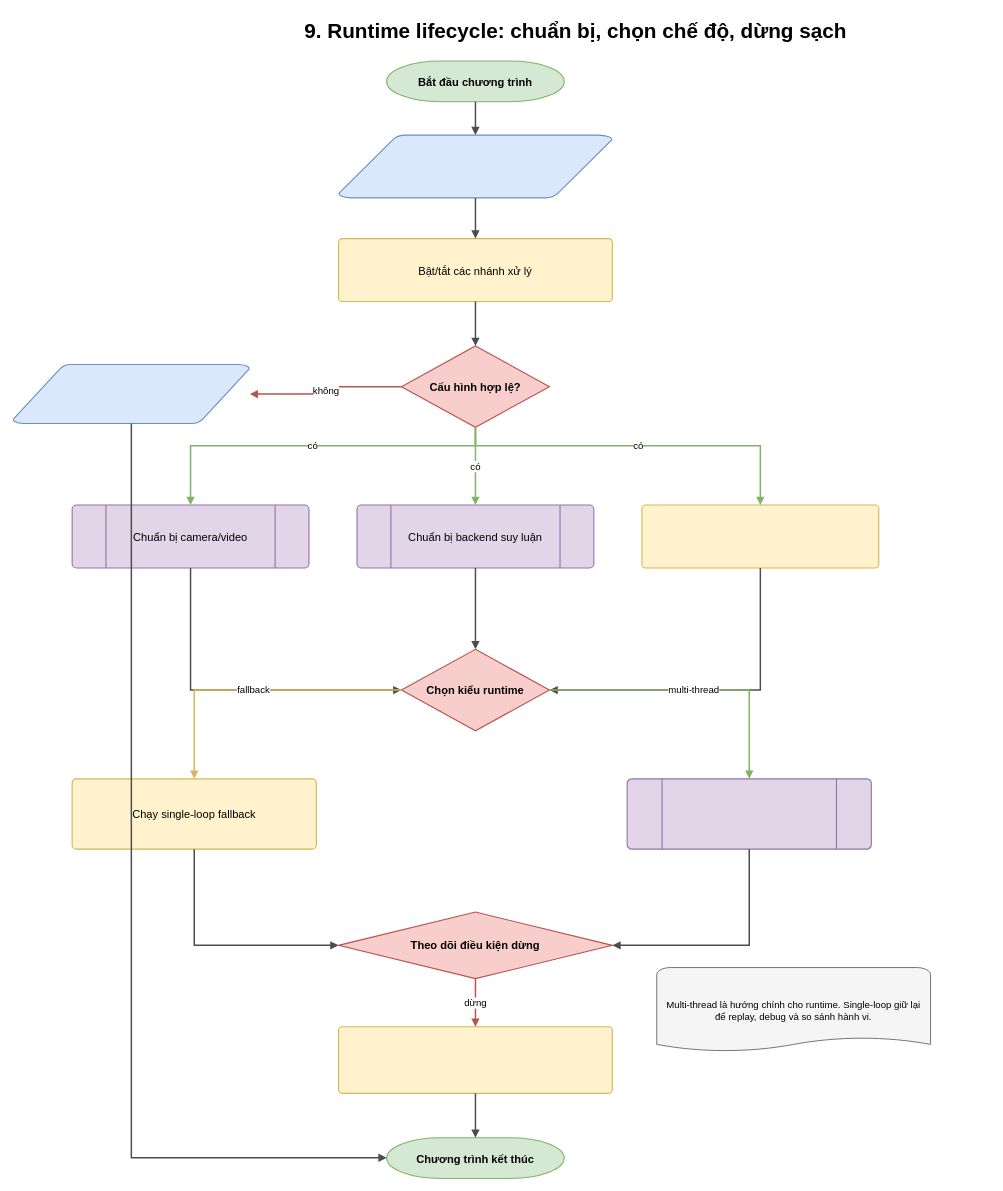
Some shapes in this 1003 by 1191 pixel diagram are drawn without their labels. Here are the shapes that lost their labels. From the top down, the box of each, then its label:
(338, 134, 613, 198): Đọc cấu hình và mode
(12, 364, 250, 424): Dừng vì cấu hình lỗi
(641, 504, 879, 568): Chuẩn bị kích thước xử lý
(626, 778, 872, 849): Chạy multi-thread runtime
(338, 1026, 613, 1094): Đóng tài nguyên và worker
